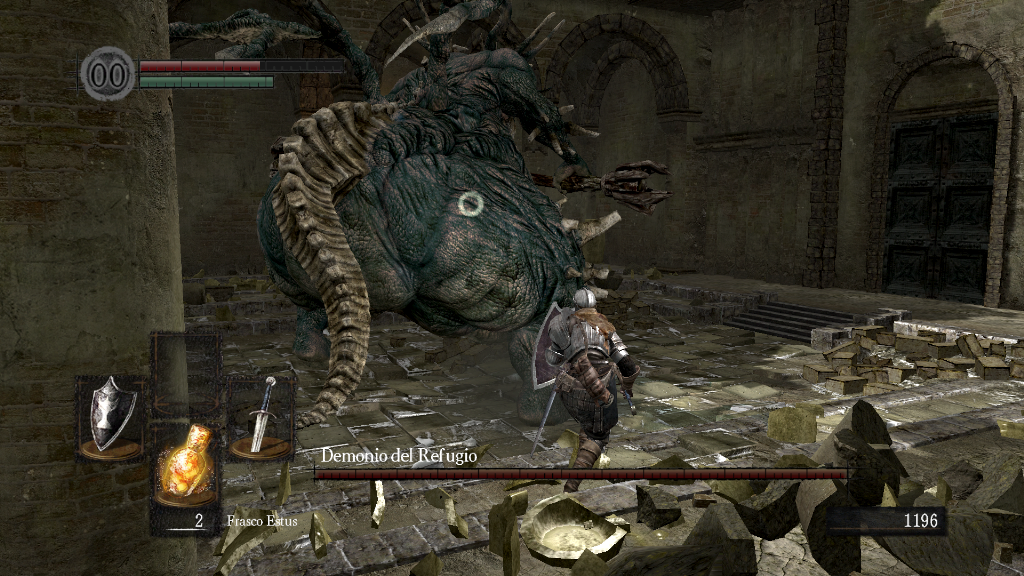asylumDemon: (169, 2, 672, 453)
bossHP: (314, 469, 847, 479)
health: (138, 58, 343, 71)
humanity: (80, 45, 136, 102)
player: (530, 287, 639, 495)
souls: (825, 506, 945, 536)
stamina: (138, 74, 274, 88)
